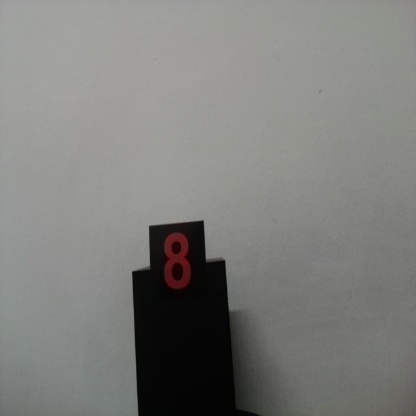id_8: (148, 225, 207, 310)
